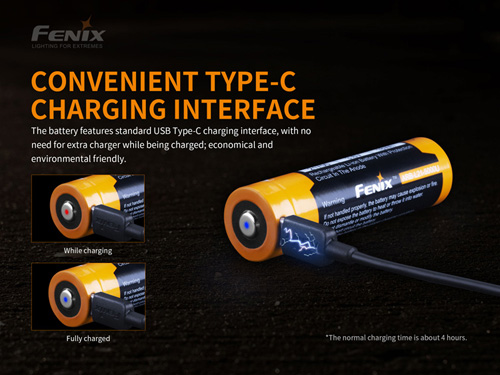Battery: (221, 133, 456, 265)
